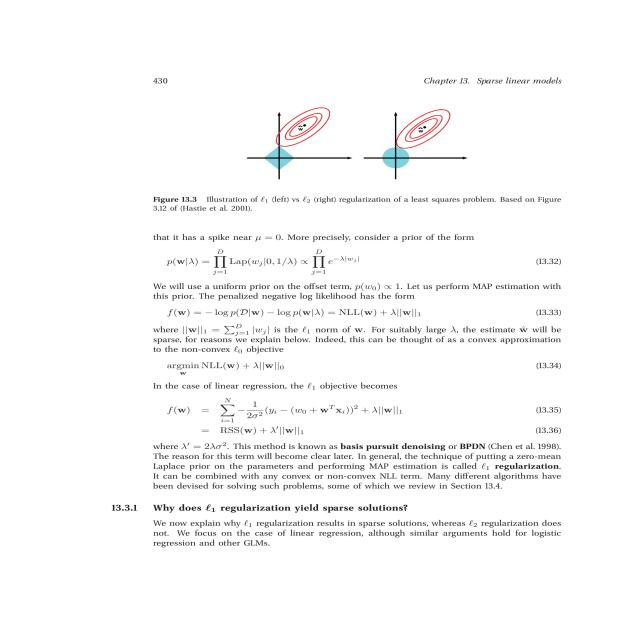diagram: (108, 66, 614, 228)
